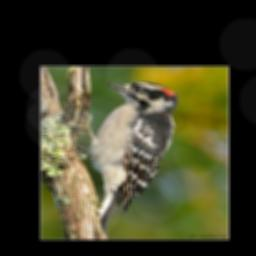Woodpecker: (71, 82, 181, 234)
